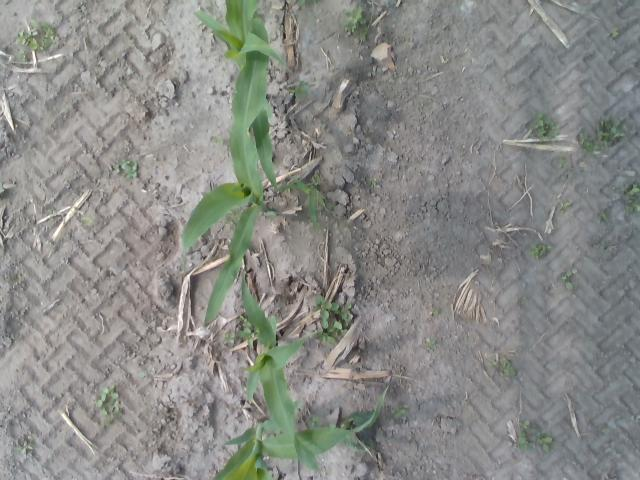Maize: (185, 7, 325, 328), (240, 268, 324, 475), (193, 1, 280, 192), (214, 387, 389, 479)
Weeds: (530, 113, 556, 142), (316, 296, 338, 330), (598, 117, 622, 143), (346, 8, 366, 34), (624, 184, 640, 214), (576, 131, 596, 151), (534, 432, 553, 450), (564, 268, 578, 290), (320, 330, 338, 346), (518, 432, 532, 450), (122, 164, 138, 179), (293, 84, 308, 99), (338, 303, 354, 317), (502, 360, 516, 376), (110, 401, 124, 414), (534, 244, 547, 257), (238, 323, 252, 335), (22, 442, 34, 456), (334, 322, 348, 334), (558, 201, 573, 212), (358, 26, 368, 42), (40, 27, 54, 38), (15, 30, 26, 44), (96, 393, 107, 407), (391, 408, 406, 418), (83, 214, 95, 226), (104, 386, 118, 396), (211, 136, 224, 146), (40, 39, 51, 50), (26, 28, 38, 38), (224, 332, 236, 342), (298, 0, 318, 6), (519, 420, 530, 430), (30, 38, 39, 50), (110, 162, 120, 172), (600, 211, 610, 221), (368, 178, 378, 188), (610, 29, 620, 38), (100, 407, 110, 416), (558, 156, 566, 167), (16, 54, 28, 61), (519, 294, 526, 304), (426, 336, 434, 344), (432, 308, 438, 315)
